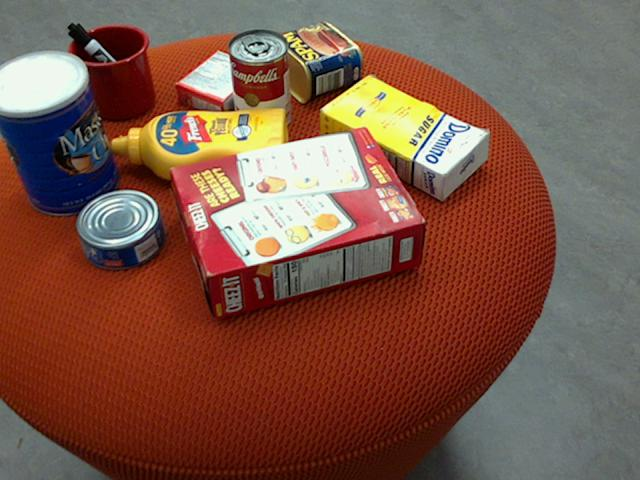cracker_box: (170, 125, 425, 317)
gelatin_box: (175, 49, 266, 118)
large_marker: (67, 22, 150, 105)
master_chef_can: (0, 50, 119, 216)
mug: (54, 25, 155, 120)
mustard_bottle: (112, 107, 288, 181)
potted_meat_can: (264, 22, 363, 104)
sugar_box: (319, 75, 491, 199)
tomato_soup_can: (227, 28, 291, 134)
tuna_fish_can: (76, 190, 165, 271)
